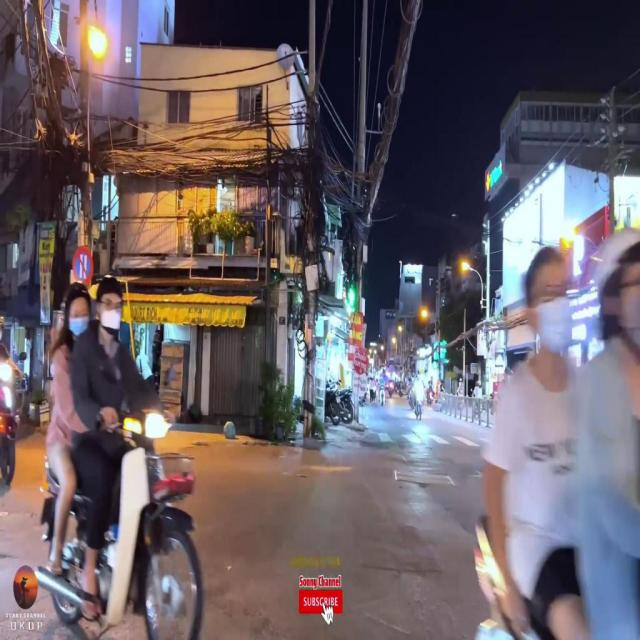cam_do_xe: (73, 246, 94, 285)
